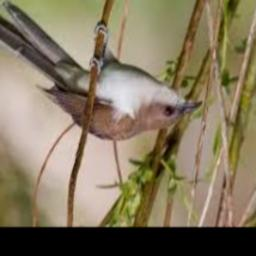Cuckoo: (0, 0, 202, 141)
